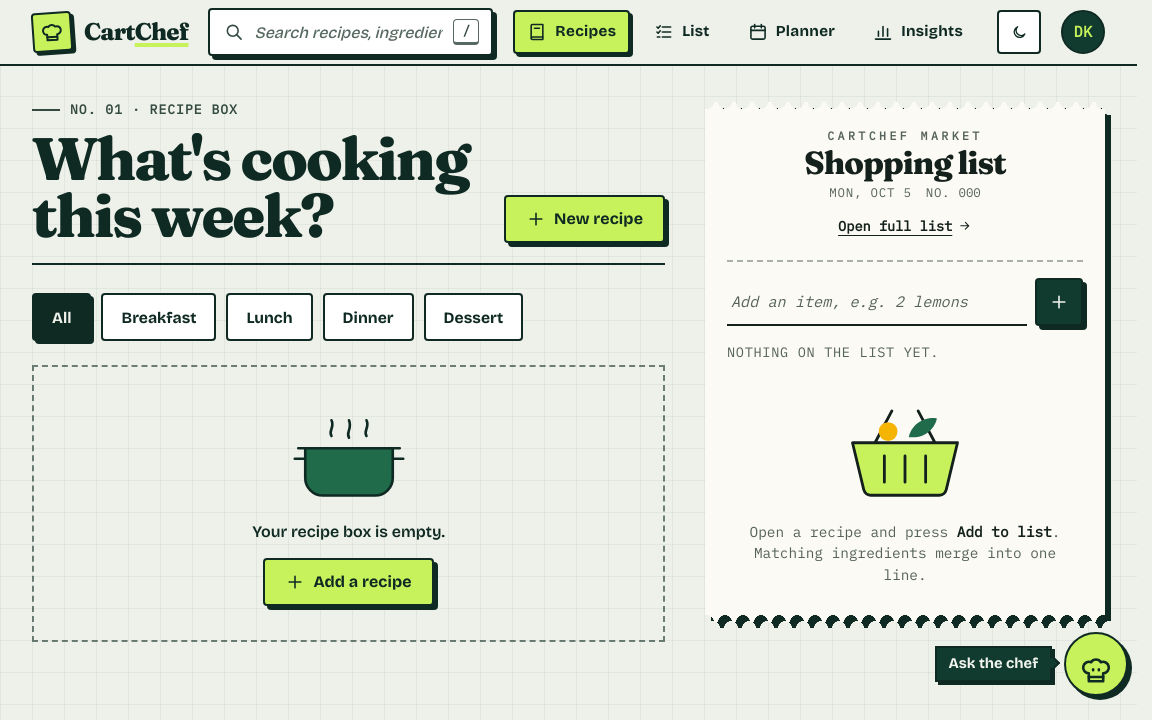
signed-in session › the shared demo account is labelled and can't be deleted
Step 1. Click the button with aria-label "Account menu for Demo Kitchen" → (1083, 32), box [1061,10,1105,54]
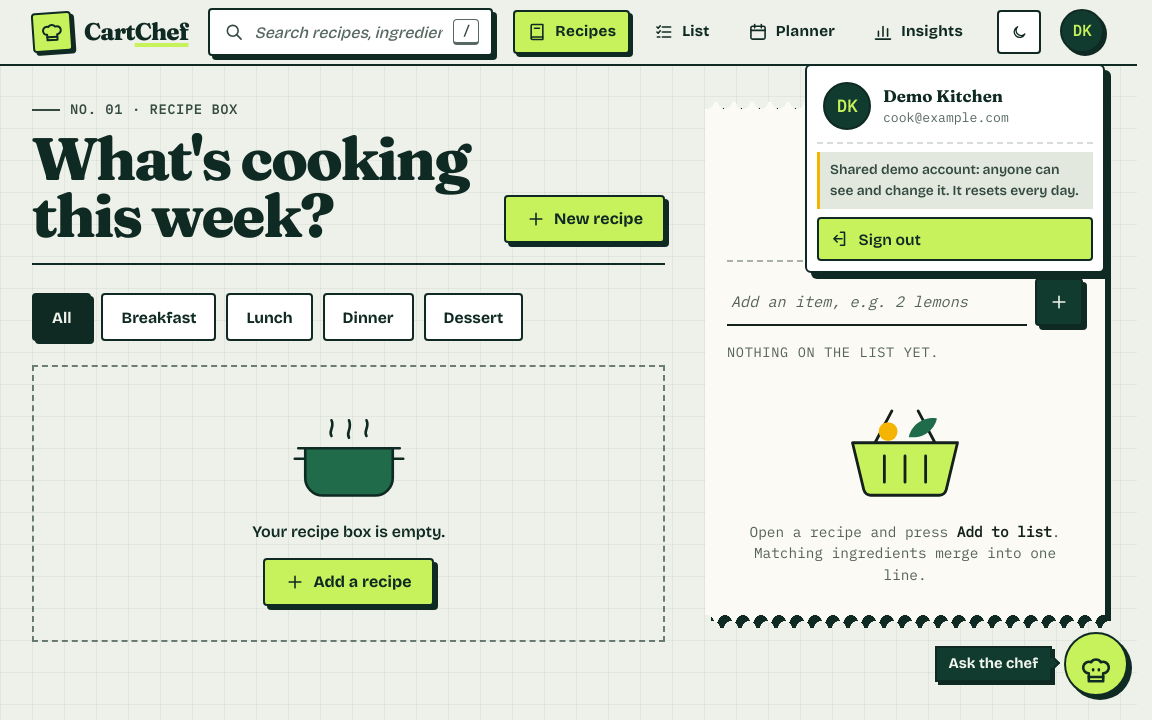
expect the menu shows "Shared demo account": met, box [830,161,1078,199]
